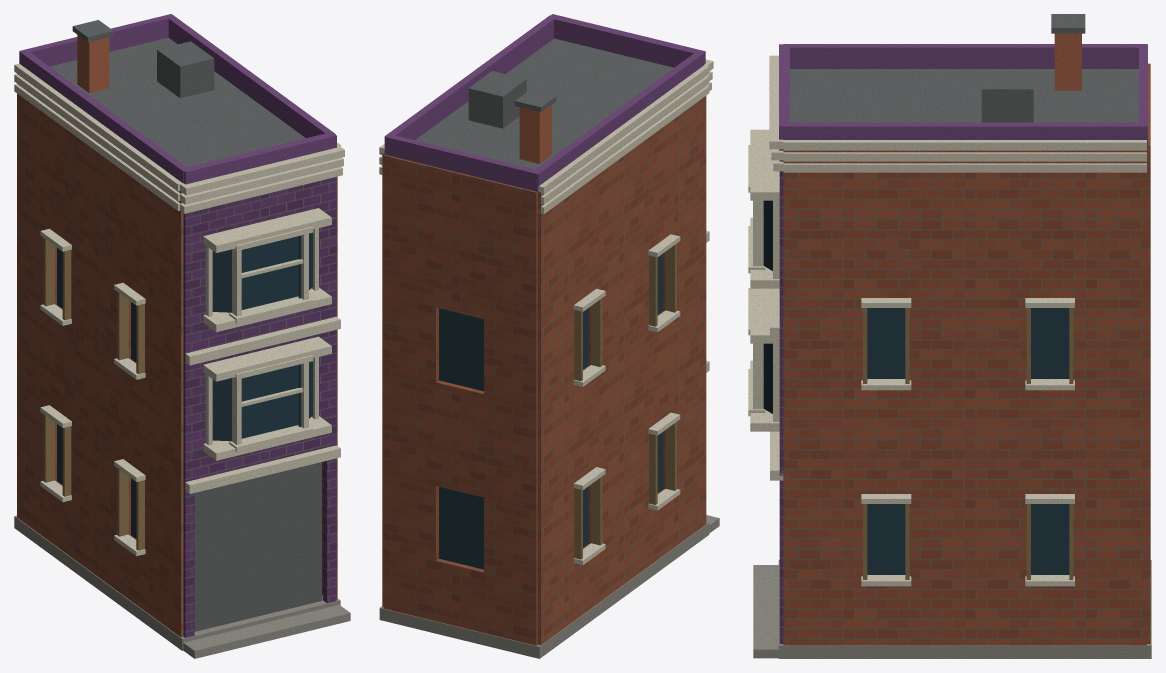
File: VICT3B_lod2.glb
3 views of the same model, side by side, from view 1: azimuth 30°, elevation 25°; view 2: azimuth 150°, elevation 25°; view 3: azimuth 270°, elevation 25° (orthographic). The views are drawn at different scales.
Visible parts, largest first — view 1: VICT3B_LOD2; view 2: VICT3B_LOD2; view 3: VICT3B_LOD2.
Part boxes in pixels (x1,y1,x2,y2): VICT3B_LOD2: [14, 14, 350, 658]; VICT3B_LOD2: [379, 14, 719, 658]; VICT3B_LOD2: [748, 14, 1151, 658].
Size of the model in its own units: 3.71 by 10.45 by 6.65.
10 materials, 8 textured.
